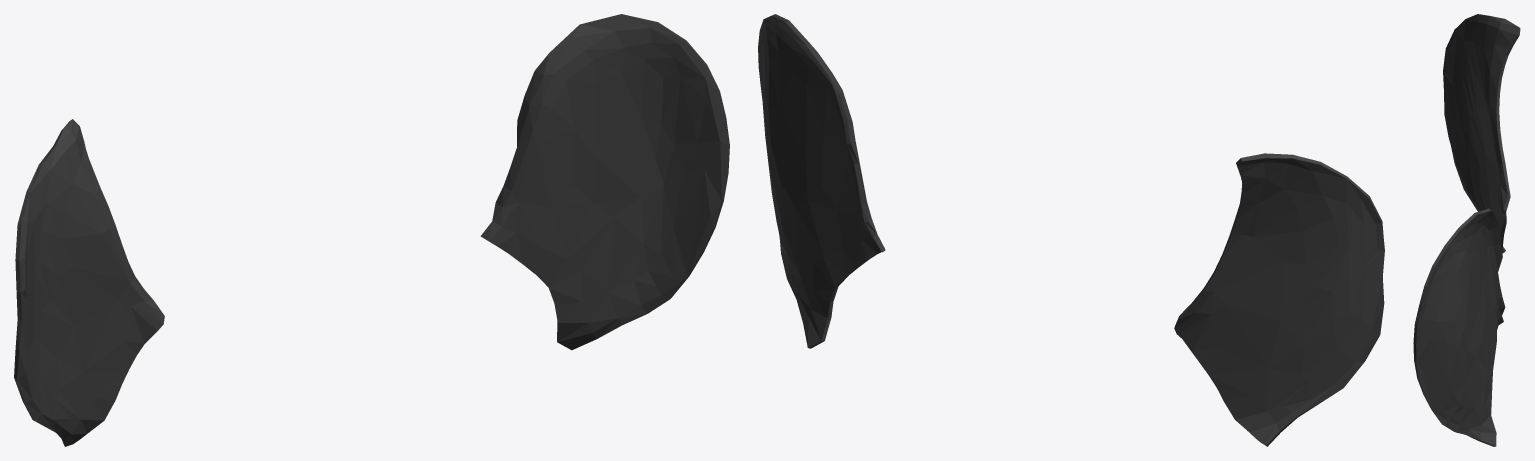
File: c6_cranial_articular_surface.glb
3 views of the same model, side by side, from view 1: azimuth 30°, elevation 25°; view 2: azimuth 150°, elevation 25°; view 3: azimuth 270°, elevation 25° (orthographic). The views are drawn at different scales.
Parts seen in each view (by area): view 1: c6_cranial_articular_surface; view 2: c6_cranial_articular_surface; view 3: c6_cranial_articular_surface.
Boxes of the visible parts, left/top/right/bottom form: c6_cranial_articular_surface: left=14, top=14, right=729, bottom=446; c6_cranial_articular_surface: left=758, top=14, right=1384, bottom=446; c6_cranial_articular_surface: left=1413, top=14, right=1520, bottom=446.
Size of the model in its own units: 38.23 by 17.84 by 6.95.
1 material, 1 textured.
